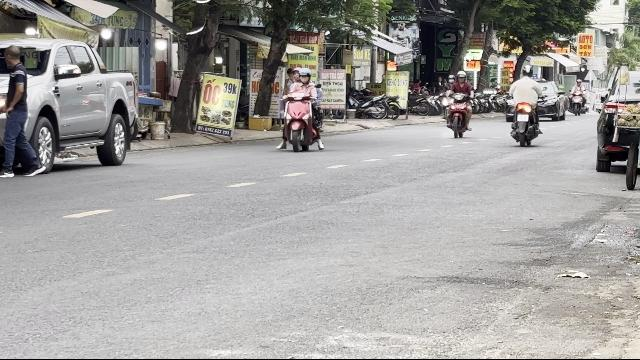helmet: (298, 67, 310, 83)
motorcyclist: (276, 67, 326, 153)
nohelmet: (3, 46, 21, 66)
